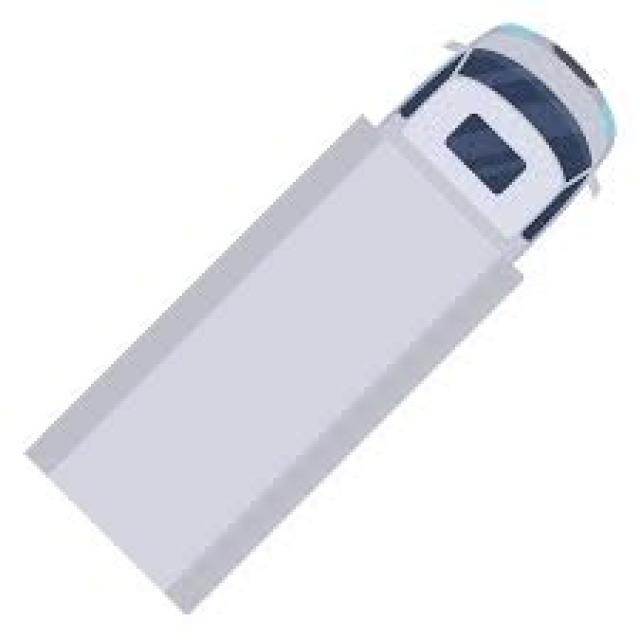truck: (19, 24, 616, 613)
